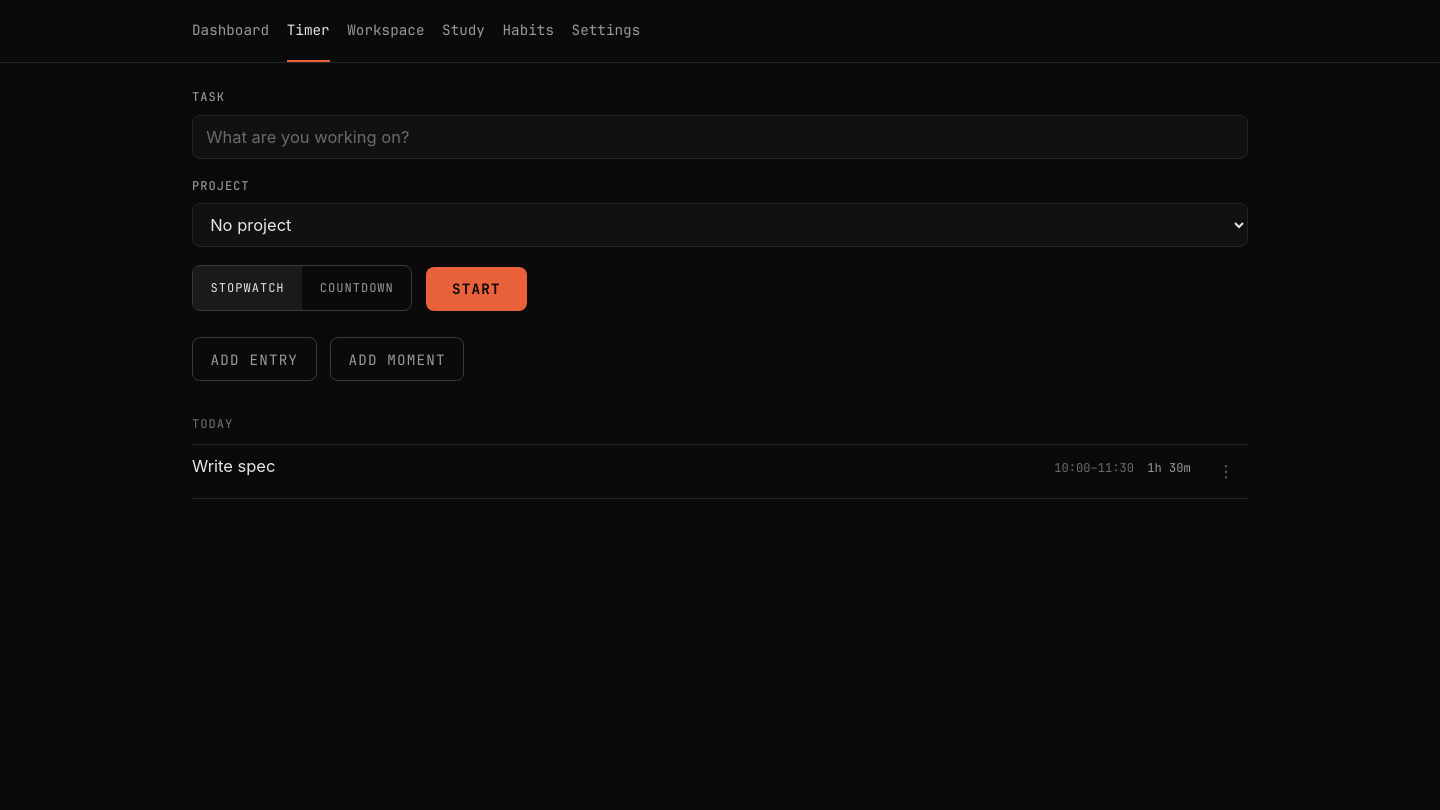
Test case: renaming a time entry › renames a time entry from its row's ⋮ menu
This screenshot has width=1440, height=810.
Click the button named "More Write spec": (1226, 472) x1=1204 y1=454 x2=1248 y2=489
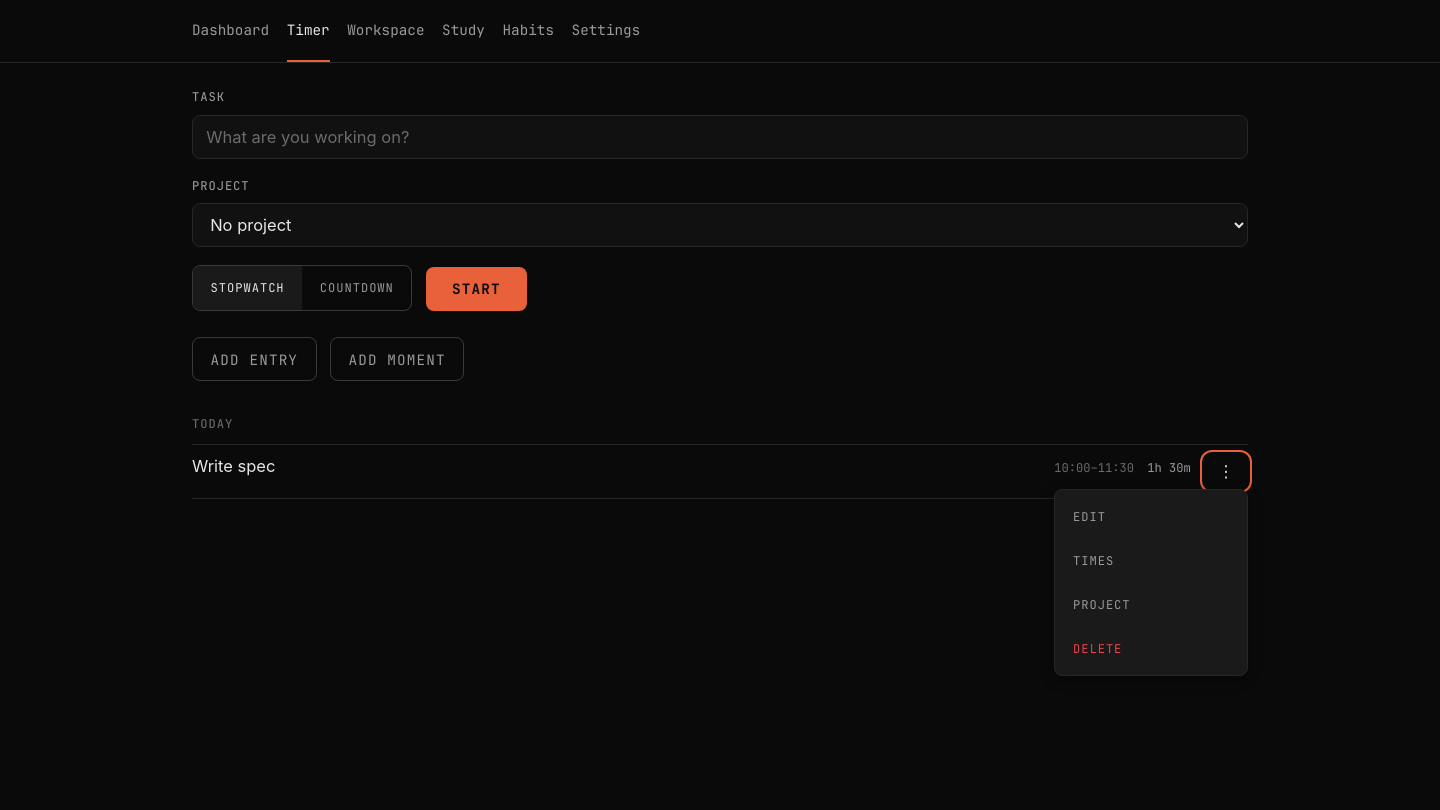
Click the button "Edit": (1151, 517) x1=1060 y1=495 x2=1243 y2=539
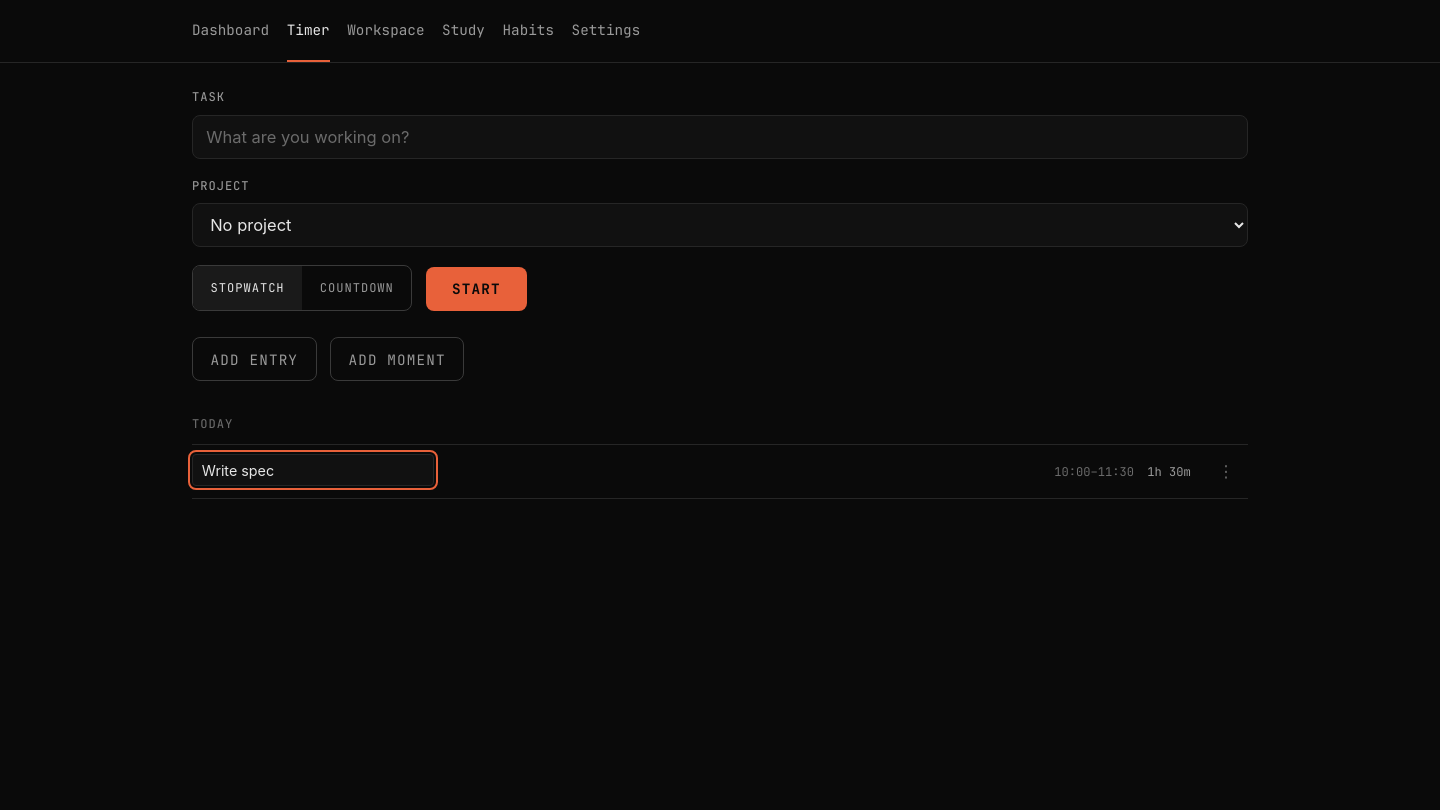
Expected: the field named "entry title" is shown, x1=192 y1=454 x2=434 y2=486
Press Escape
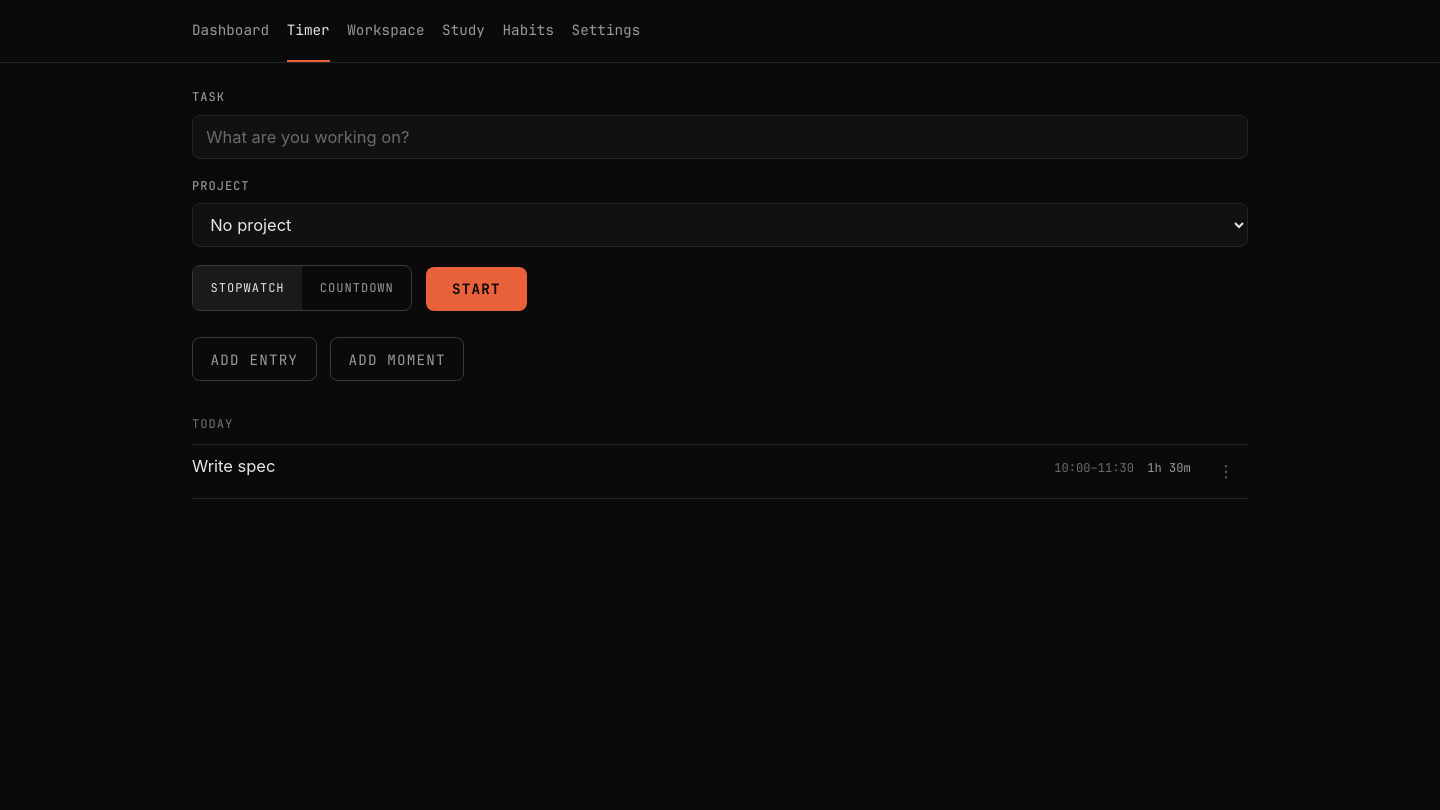
Click the button "Write spec": (234, 466) x1=192 y1=454 x2=275 y2=479
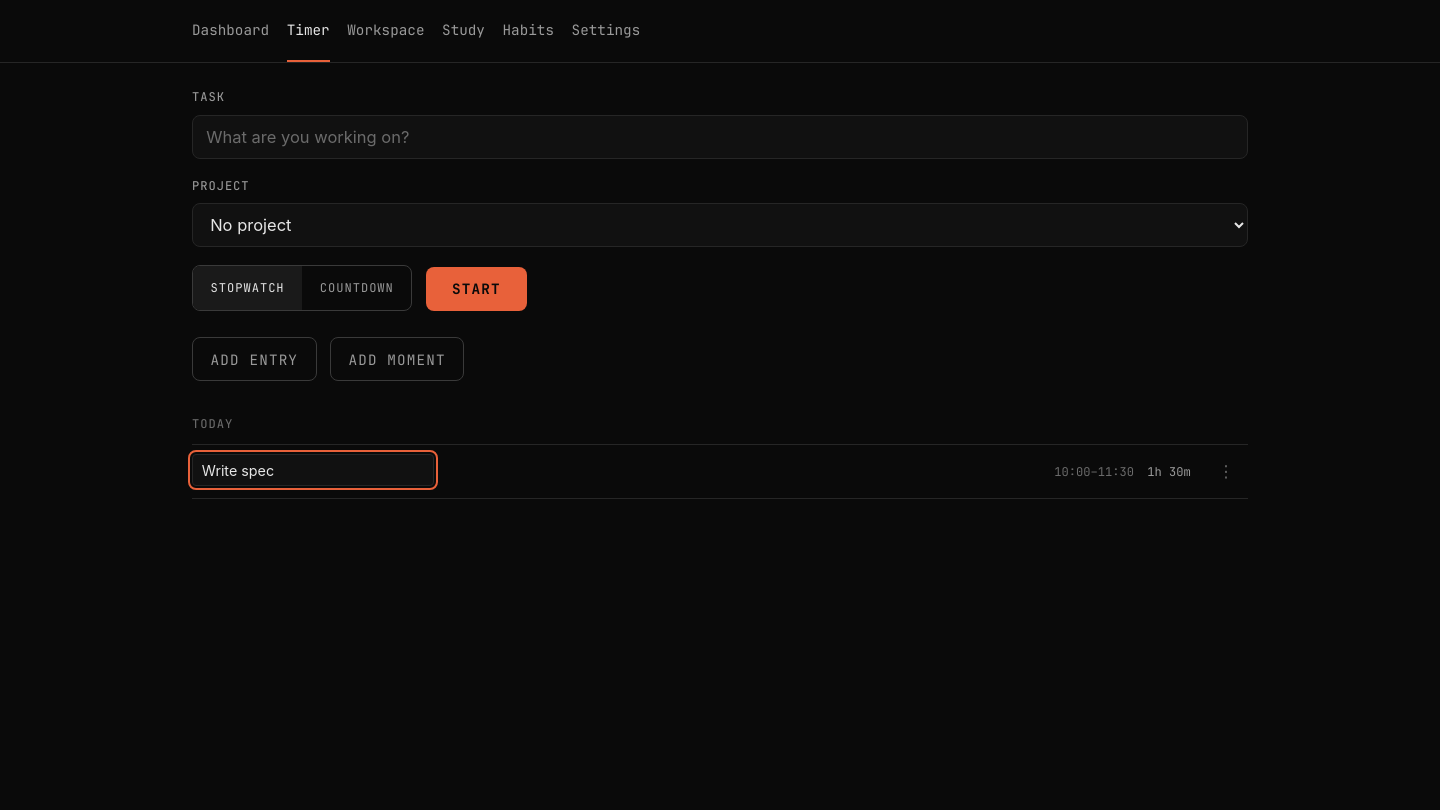
Replace the text in the field named "entry title" with "Write the rebuild spec": (313, 470) x1=192 y1=454 x2=434 y2=486
Then press Enter
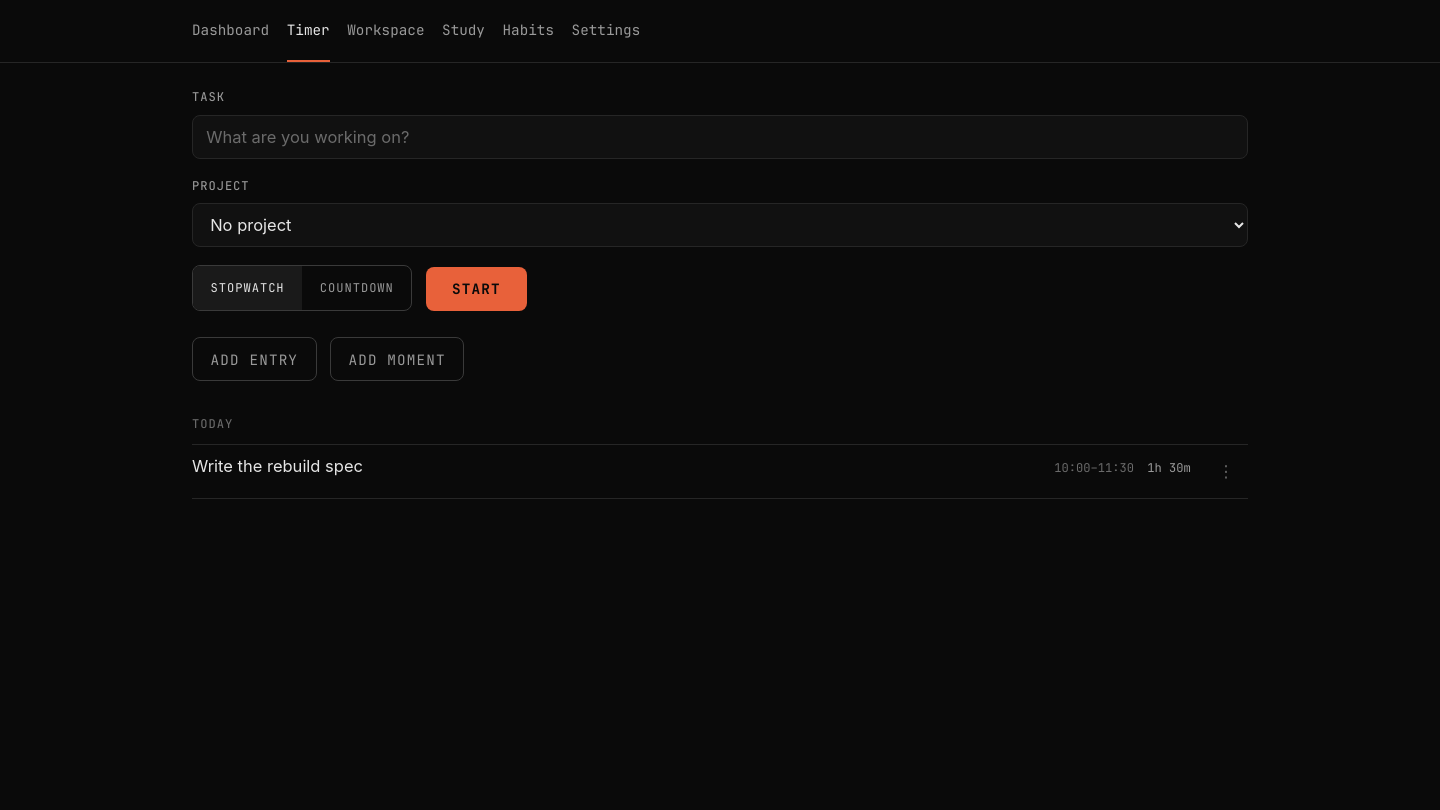
Expected: the button "Write the rebuild spec" is shown, x1=192 y1=454 x2=363 y2=479
